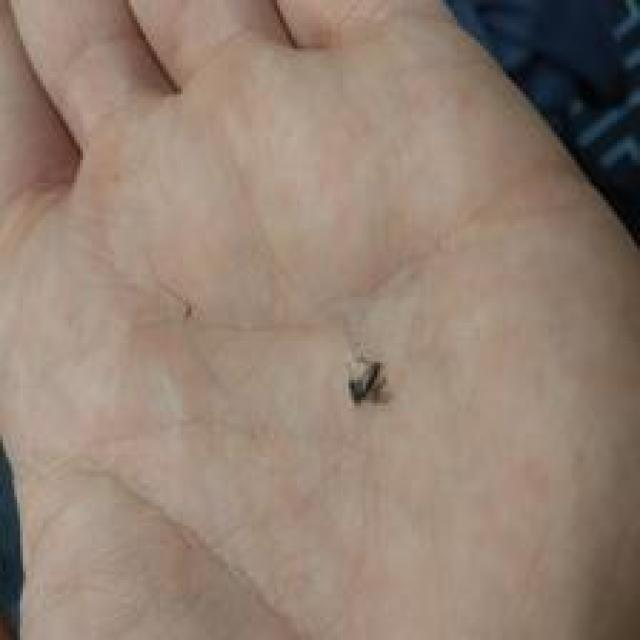Aedes albopictus: (343, 340, 386, 406)
